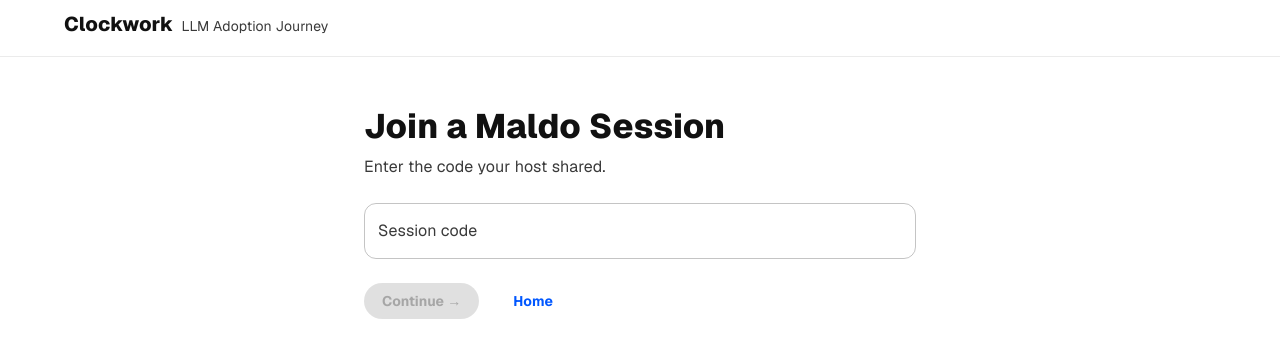
/join page › strips non-alphanumeric characters from the session code input
This screenshot has width=1280, height=339.
Type " cw-test! " into the field labelled "Session code".
click(640, 231); type(" cw-test! ")  # box x1=364 y1=203 x2=916 y2=259
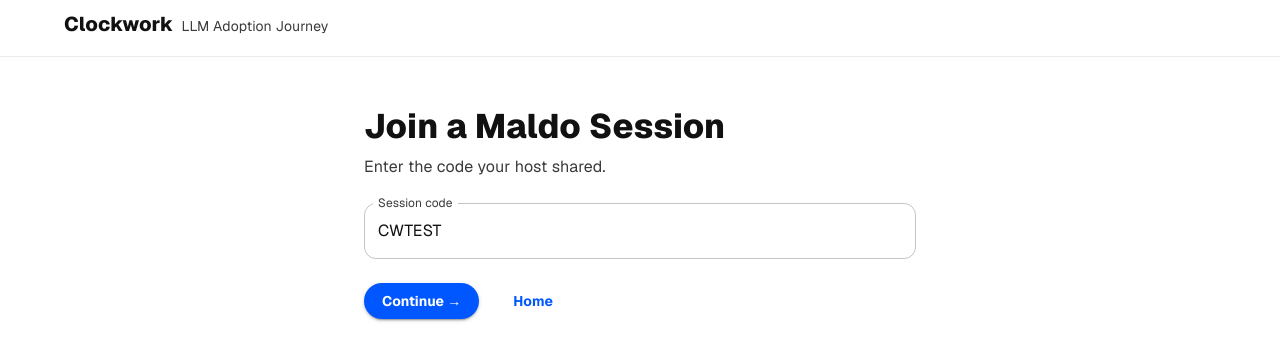
Expected: the field labelled "Session code" holds "CWTEST", x1=364 y1=203 x2=916 y2=259
